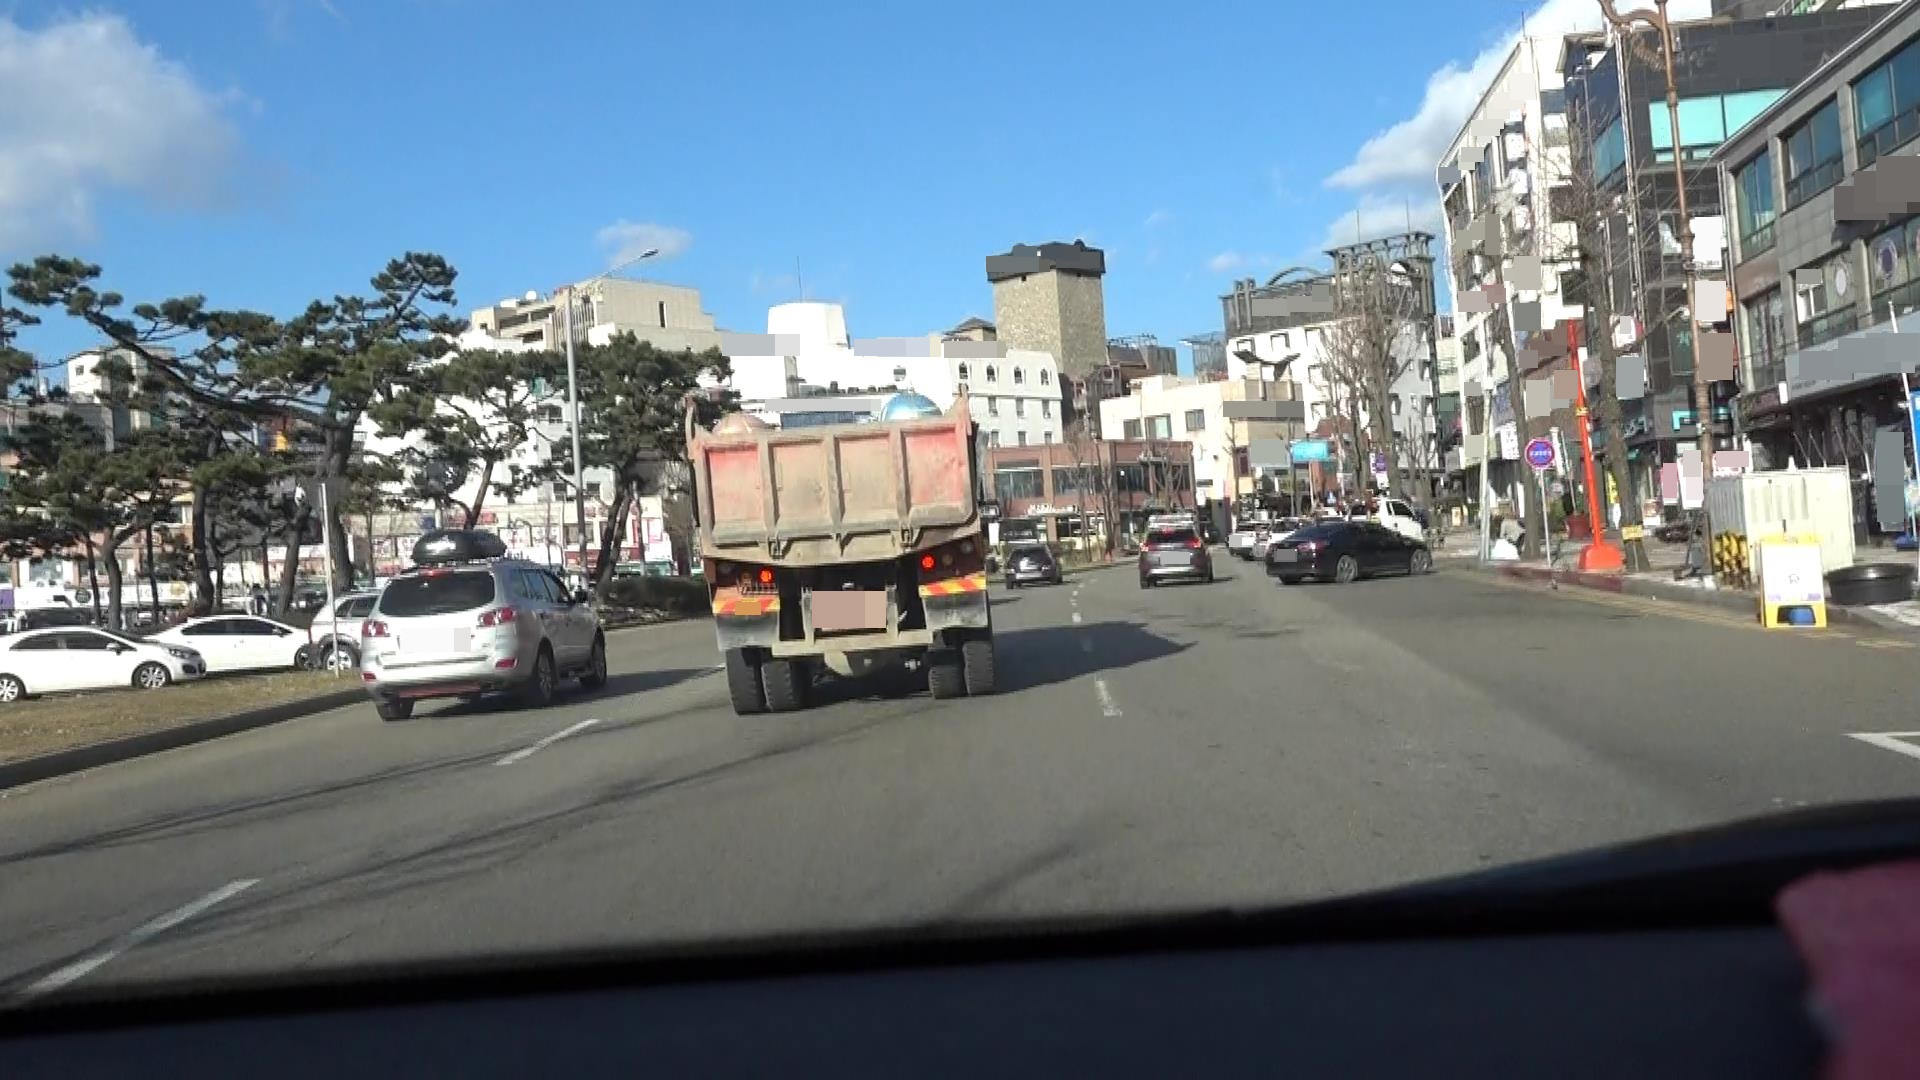불법차량: (684, 384, 997, 715)
